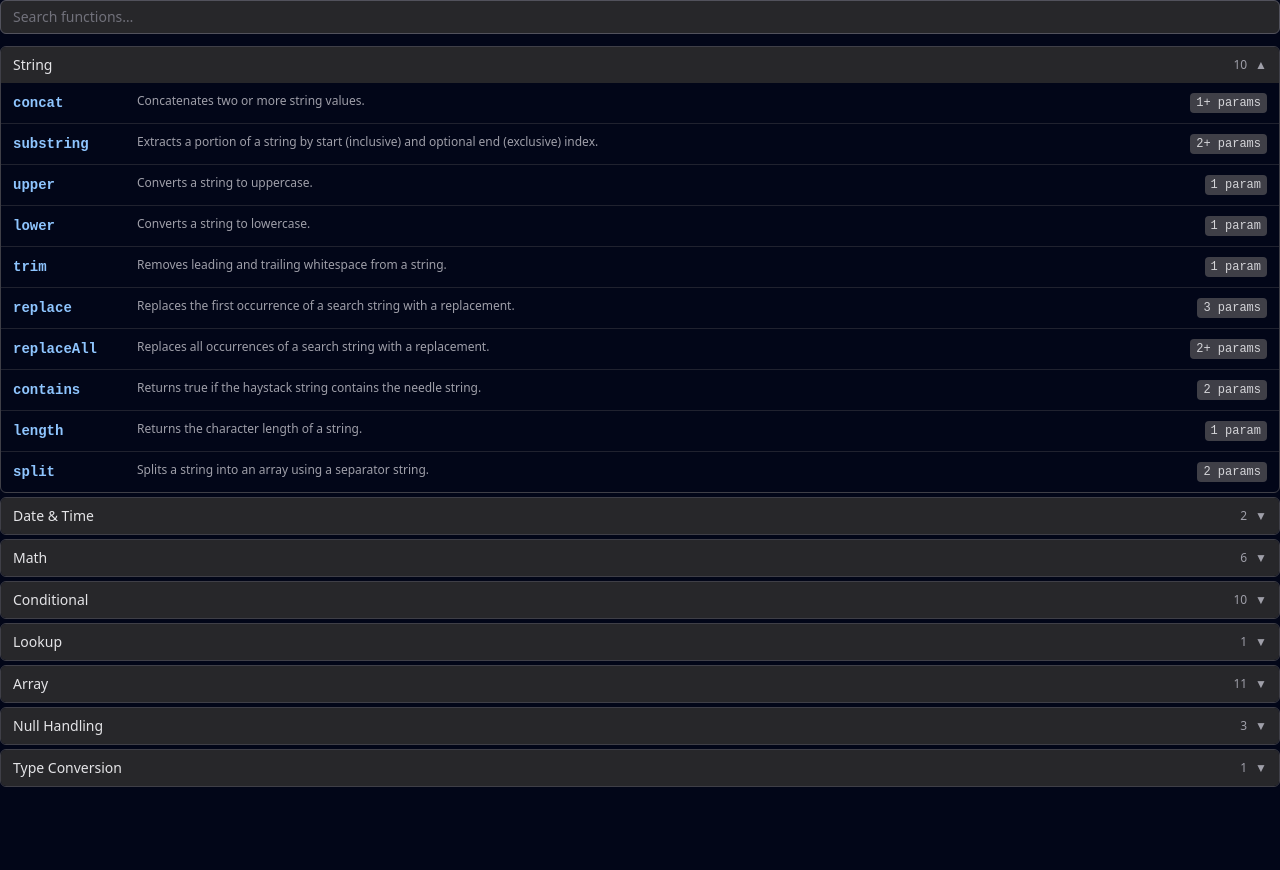
Test: TransformPicker › expands and collapses a category on click
// Click "Math" to expand
Click the button "Math 6 ▼": (30, 558) [1,540,1279,576]
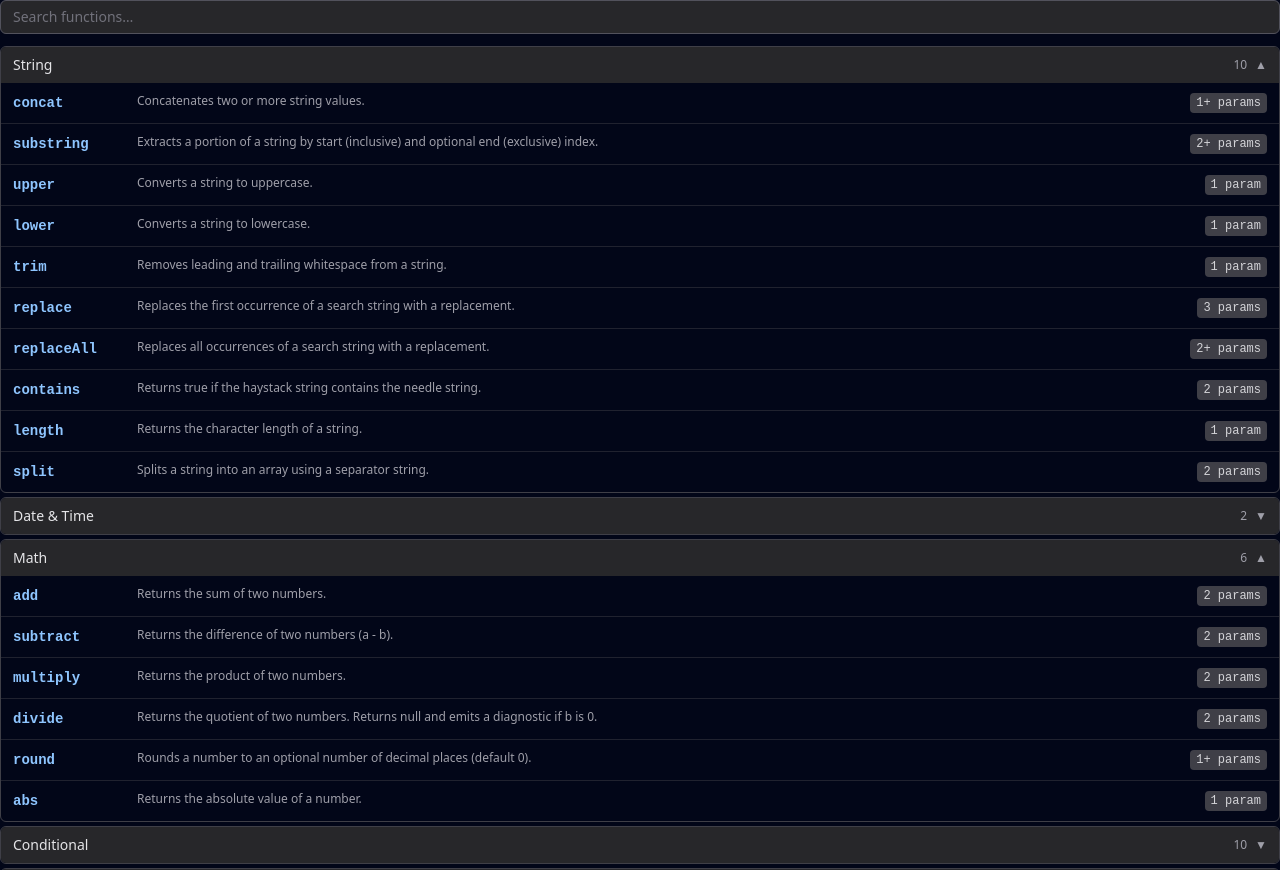
Result: the button "Math 6 ▲" is expanded
// Click again to collapse
Click the button "Math 6 ▲": (30, 558) [1,540,1279,576]
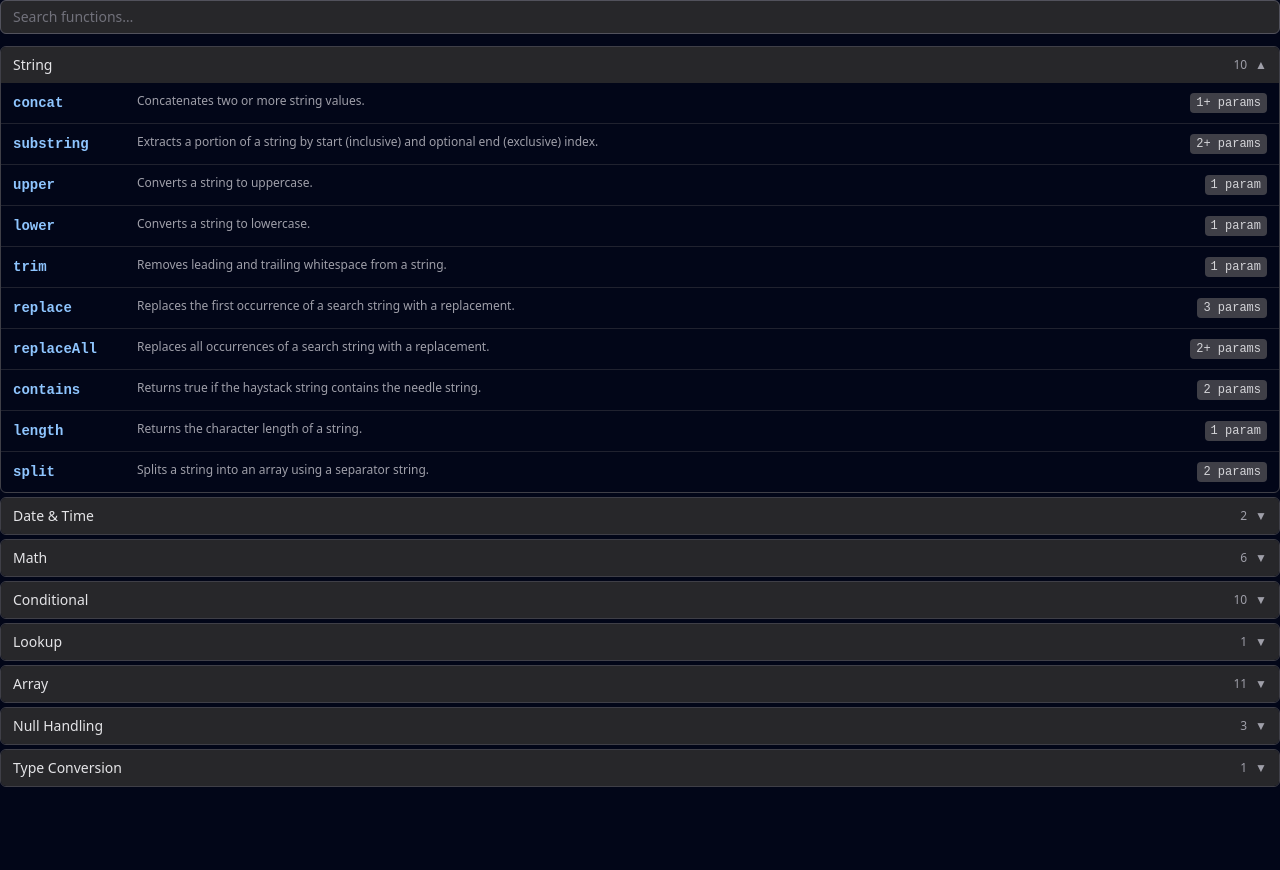
Result: the button "Math 6 ▼" is collapsed at [1,540,1279,576]
